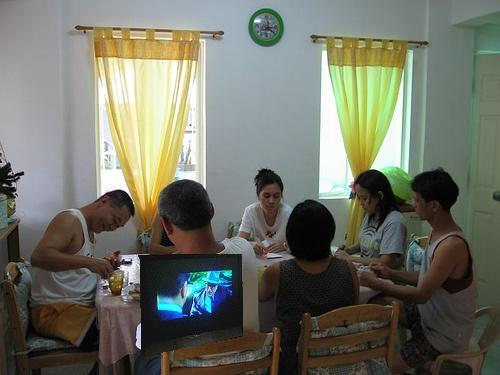tampered: (139, 255, 243, 356)
